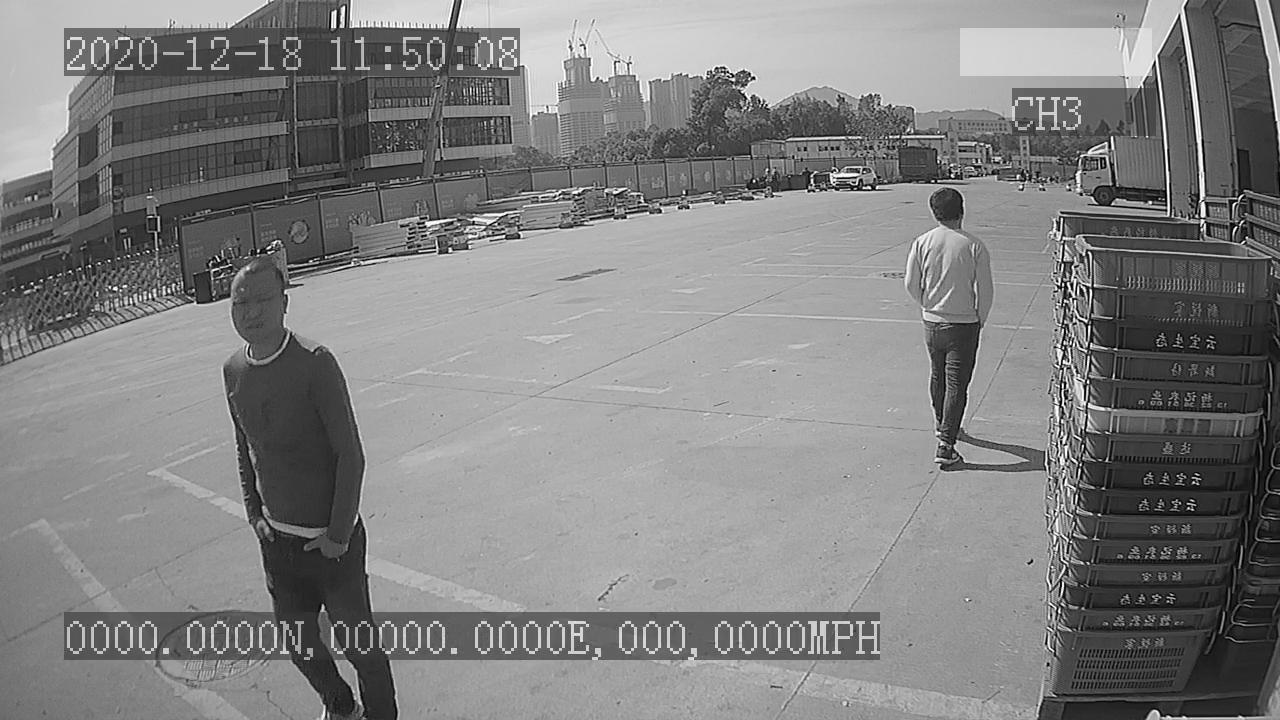person: (899, 183, 999, 470)
